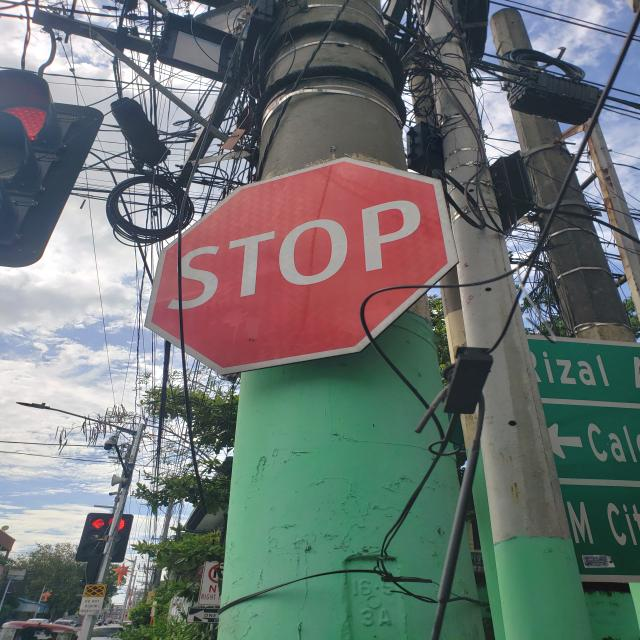stop-sign: (144, 157, 460, 376)
